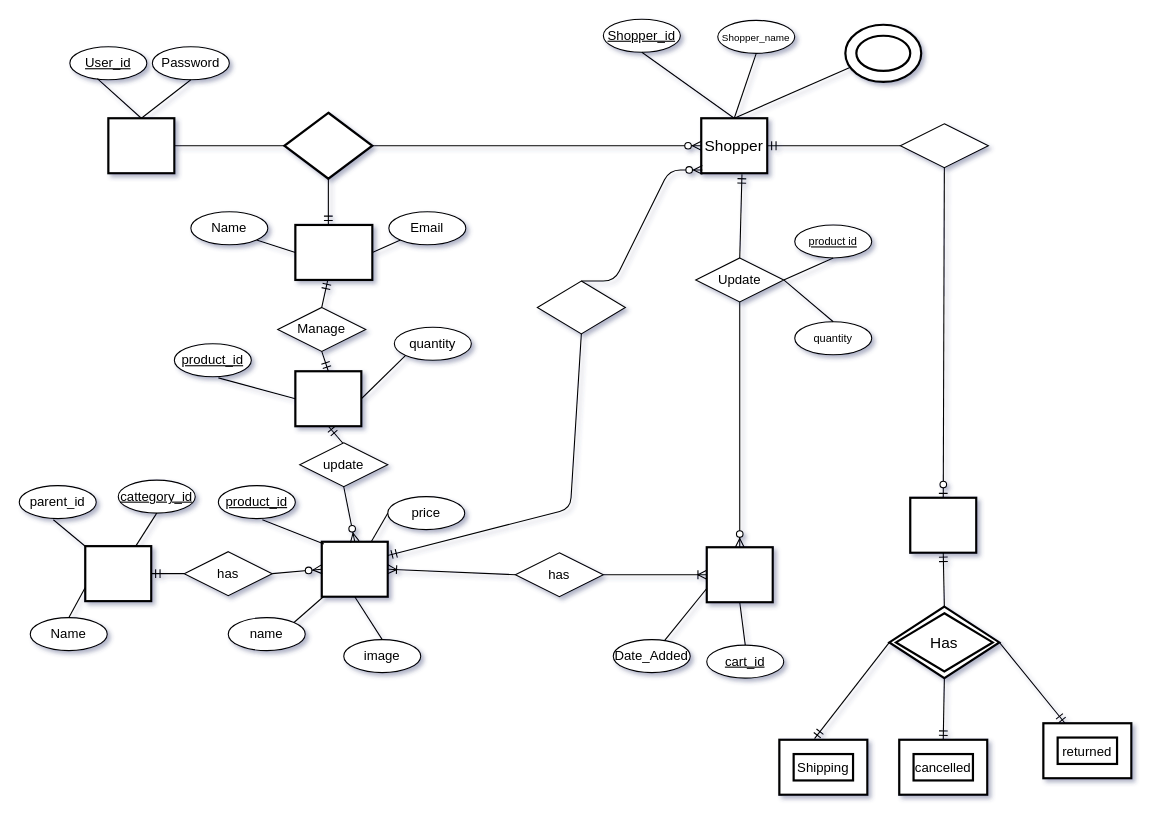
This 1158x822 diagram has some shape labels left out. The shapes that lost their labels are listed below. From the top down, each one's box as (x1, y1, x2, y2) in pixels, then its label:
(844, 23, 922, 82): Address
(107, 117, 175, 174): user
(283, 111, 373, 179): Login
(899, 123, 988, 168): placed
(294, 223, 373, 280): addministrator
(536, 280, 625, 334): Select product
(294, 370, 362, 427): Stock
(909, 496, 977, 553): order
(84, 544, 152, 602): product_category
(320, 540, 388, 597): product
(705, 546, 773, 603): Shopping_cart
